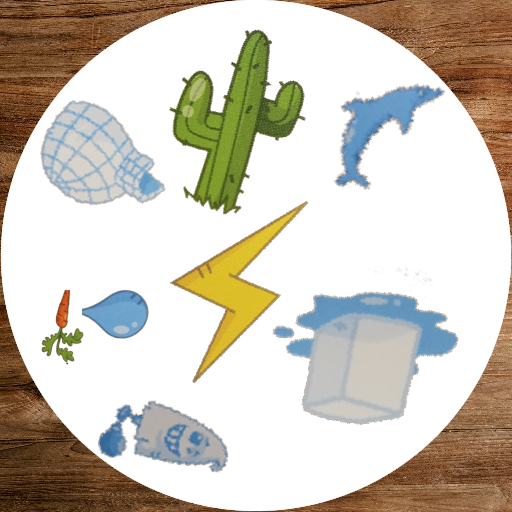cactus_icon: (132, 24, 329, 221)
carrot_icon: (21, 290, 96, 365)
cube_icon: (263, 265, 465, 467)
dolphin_icon: (310, 58, 452, 200)
ghost_icon: (98, 373, 234, 509)
igloo_icon: (38, 92, 174, 228)
lightning_icon: (143, 184, 345, 386)
raindrop_icon: (82, 279, 150, 347)
